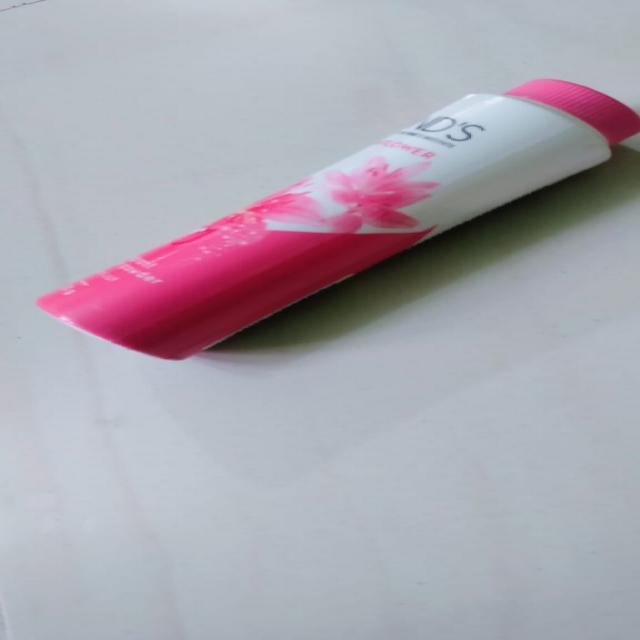powder: (24, 71, 634, 366)
